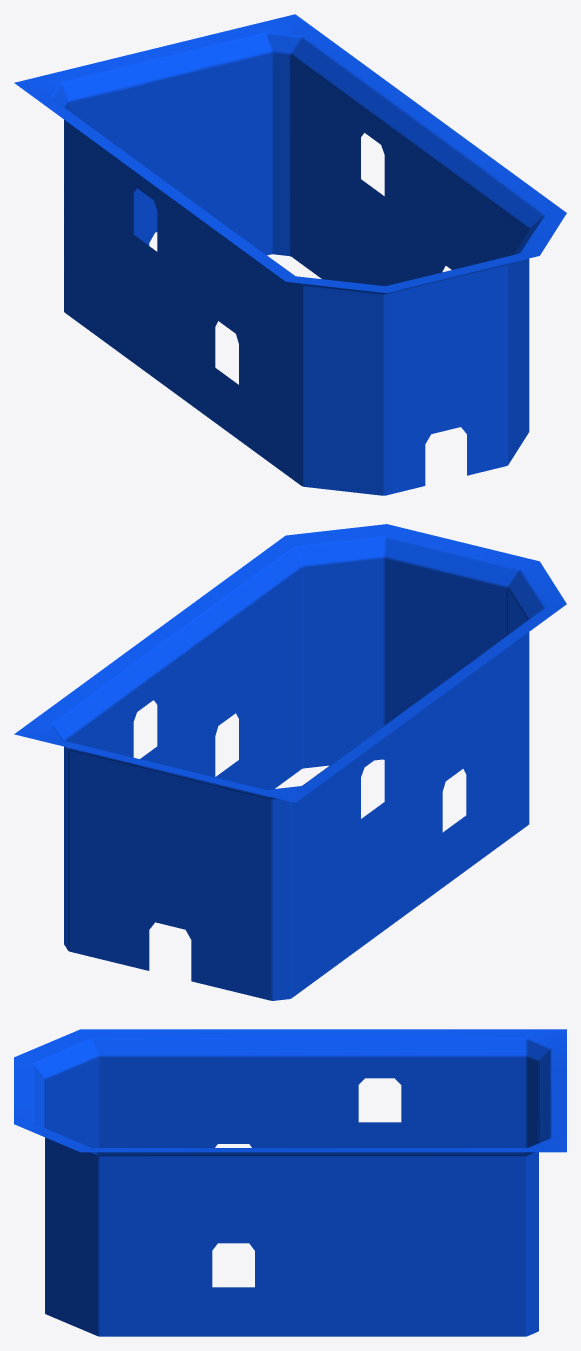
The model's file is LevelRework_Lobby_RoomWallsBaked.fbx.
3 views of the same model, one above another, from view 1: azimuth 30°, elevation 25°; view 2: azimuth 150°, elevation 25°; view 3: azimuth 270°, elevation 25° (orthographic). The views are drawn at different scales.
Parts seen in each view (by area): view 1: Lobby_RoomWallsBaked; view 2: Lobby_RoomWallsBaked; view 3: Lobby_RoomWallsBaked.
Part boxes in pixels (x1,y1,x2,y2): Lobby_RoomWallsBaked: (14, 14, 566, 495); Lobby_RoomWallsBaked: (14, 524, 566, 1000); Lobby_RoomWallsBaked: (14, 1029, 566, 1336).
Bounding box in the file's own units: 614 × 456 × 1166.
